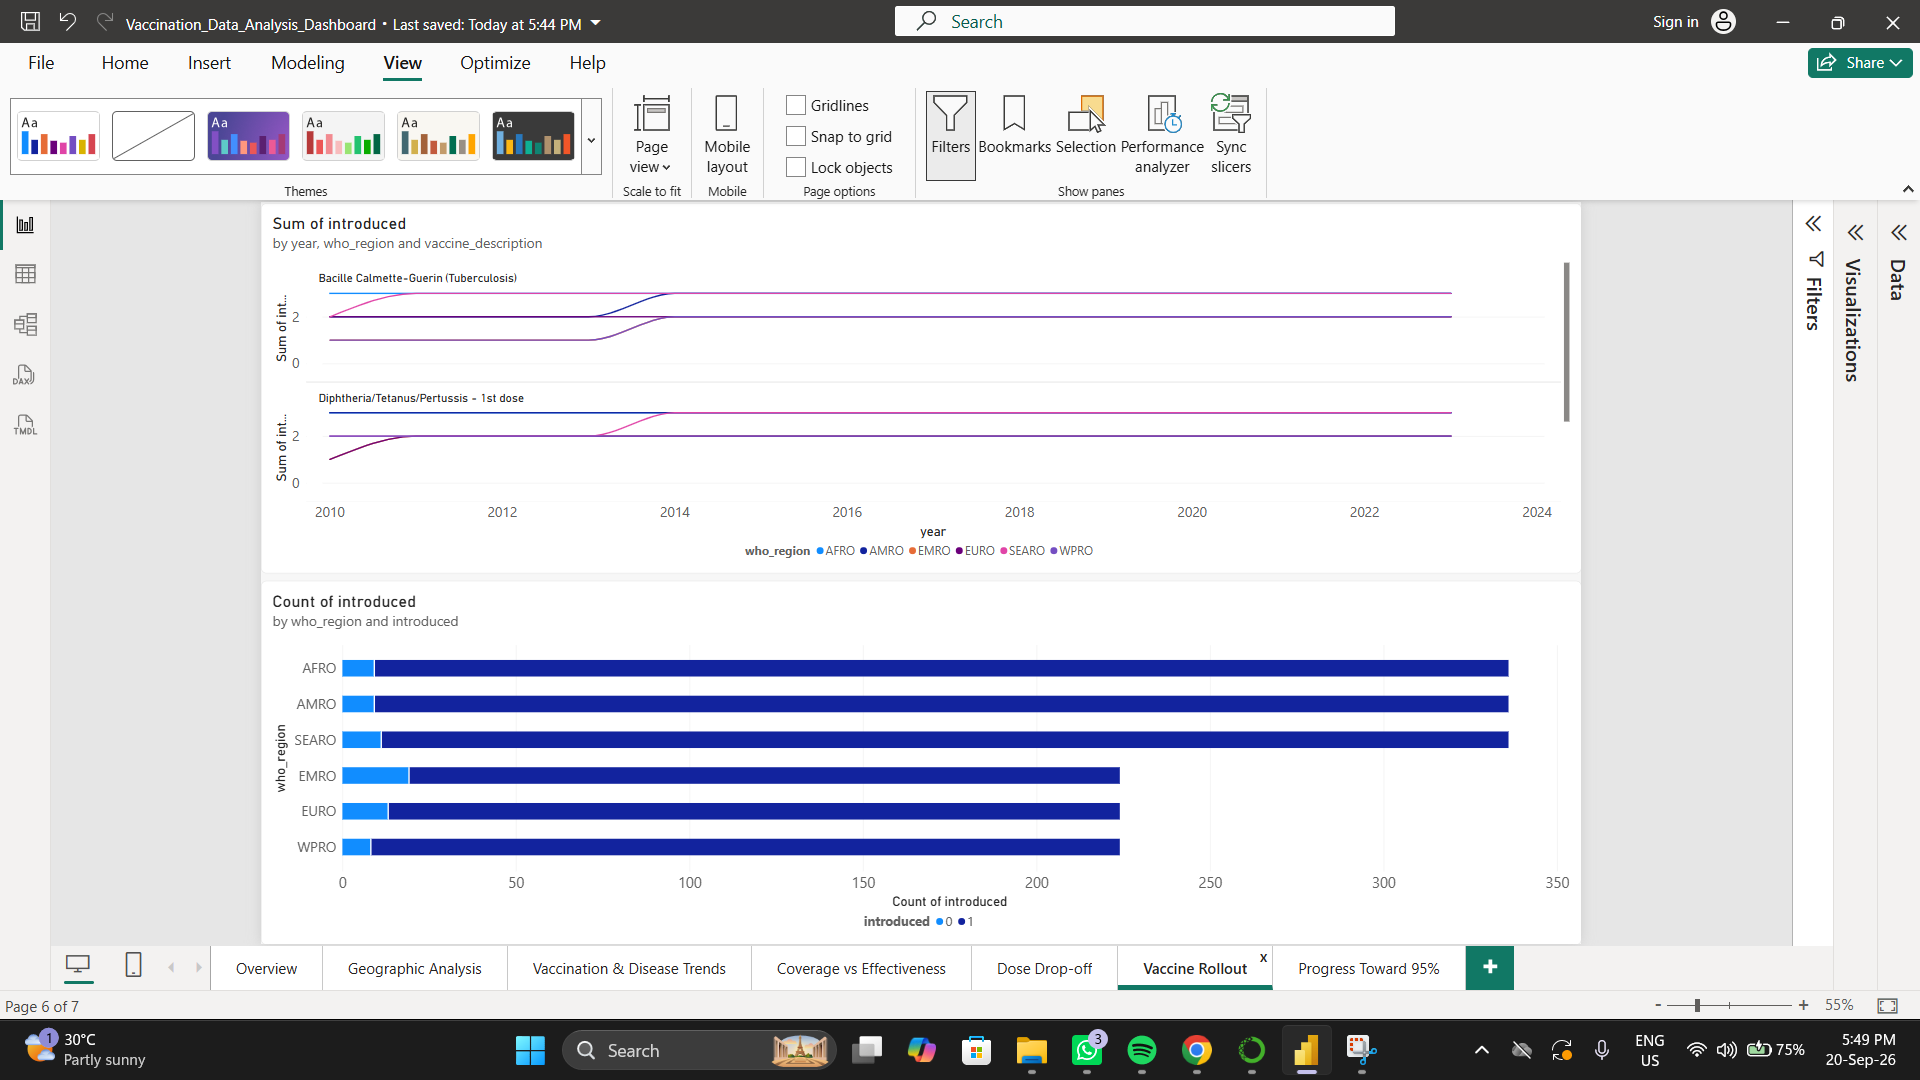

Layout of this report page (visuals, bound fields, positions):
{"tool":"powerbi","page":{"name":"Vaccine Rollout","canvas":[1920,1080],"ordinal":5},"visuals":[{"type":"lineChart","fields":{"Category":["fact_vaccine_introduction.year"],"Rows":["dim_vaccine.vaccine_description"],"Series":["dim_country.who_region"],"Y":["Sum(fact_vaccine_introduction.introduced)"]},"box":[0,2.3,1920.5,538.6],"z":0},{"type":"barChart","fields":{"Category":["dim_country.who_region"],"Series":["fact_vaccine_introduction.introduced"],"Y":["CountNonNull(fact_vaccine_introduction.introduced)"]},"box":[0,550,1920.5,529.5],"z":1000}]}

Visuals, with their boxes on the page's 1920x1080 design canvas (x1, y1, x2, y2). These are canvas units, not pixel positions in the 1920x1080 screenshot, which may show the page scaled, cropped or inside an application window:
lineChart - fact_vaccine_introduction.year x dim_vaccine.vaccine_description: {"left": 0, "top": 2, "right": 1920, "bottom": 541}
barChart - dim_country.who_region x fact_vaccine_introduction.introduced: {"left": 0, "top": 550, "right": 1920, "bottom": 1080}
